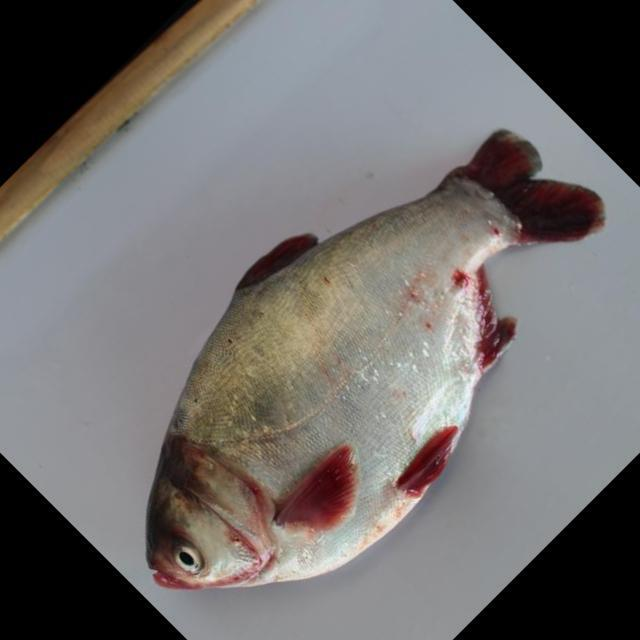SilverCarp: (101, 137, 617, 586)
